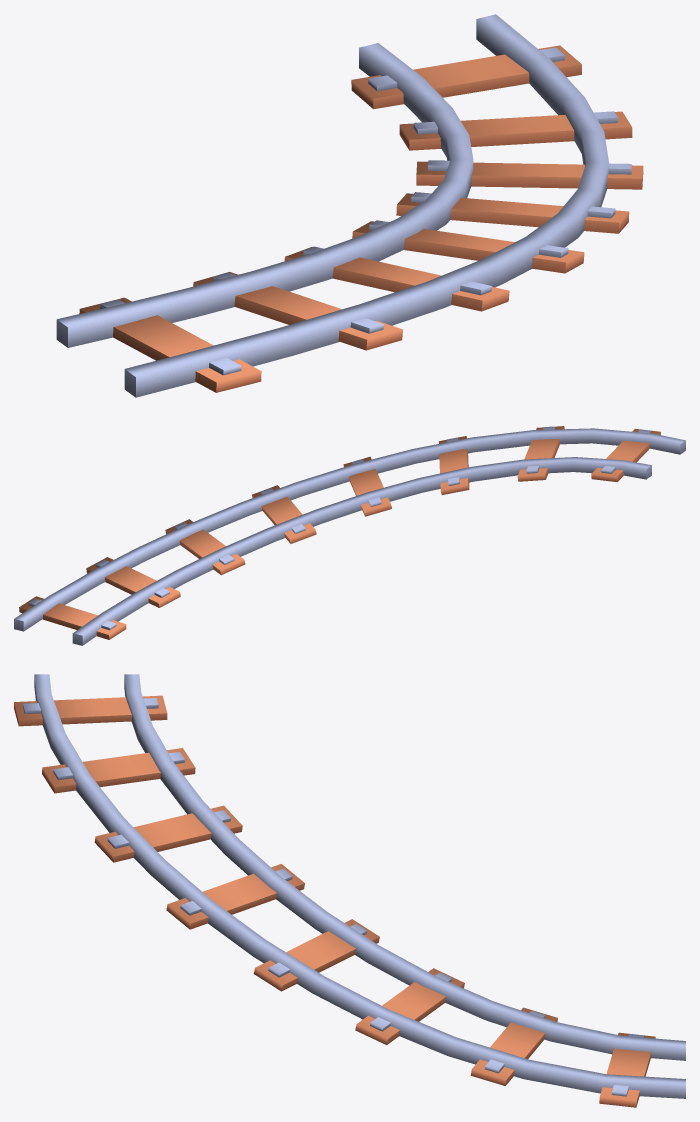
File: railroad-corner-large-ramp.glb
3 renders of one model, top to bottom at view 1: azimuth 30°, elevation 25°; view 2: azimuth 150°, elevation 25°; view 3: azimuth 270°, elevation 25°, orthographic. The views are drawn at different scales.
Visible parts, largest first — view 1: railroad-corner-large-ramp; view 2: railroad-corner-large-ramp; view 3: railroad-corner-large-ramp.
Part boxes in pixels (left/top/right/bottom): railroad-corner-large-ramp: left=56, top=14, right=643, bottom=397; railroad-corner-large-ramp: left=14, top=426, right=685, bottom=645; railroad-corner-large-ramp: left=14, top=674, right=685, bottom=1107.
Bounding box in the file's own units: 4.49 × 1.1 × 4.49.
1 material, 1 textured.
